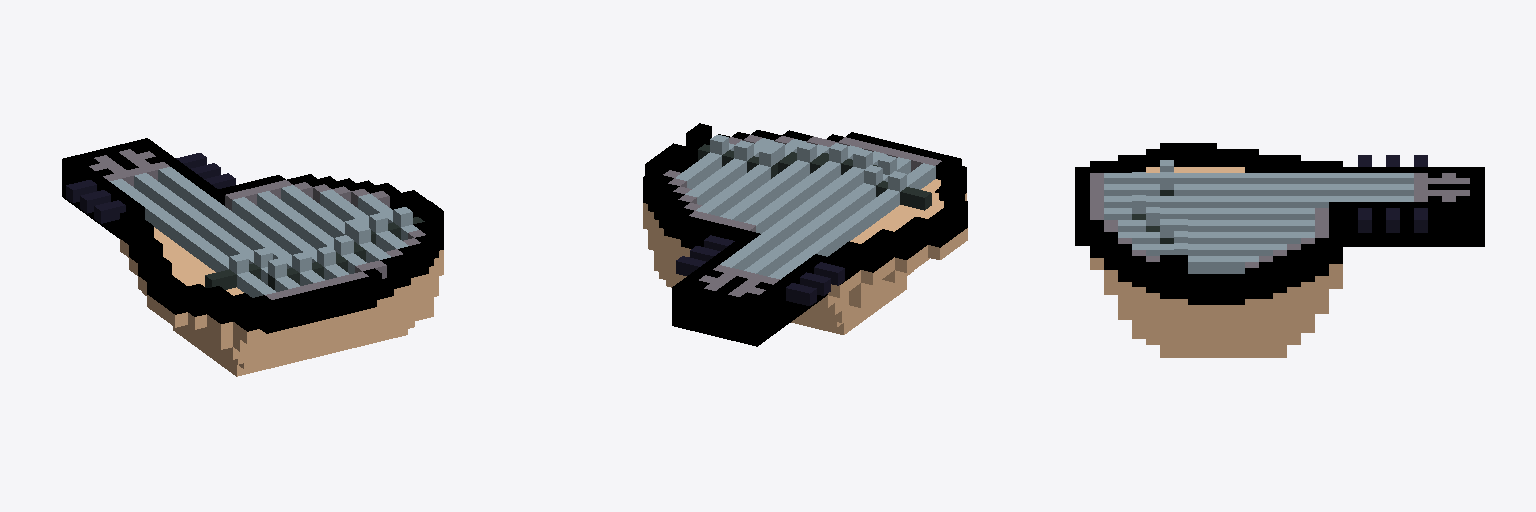
3 renders of one model, left to right at view 1: azimuth 30°, elevation 25°; view 2: azimuth 150°, elevation 25°; view 3: azimuth 270°, elevation 25°, orthographic.
Visible parts, largest first — view 1: object 1; view 2: object 1; view 3: object 1.
Boxes of the visible parts, <box> form: object 1: <box>62,138,443,376</box>; object 1: <box>643,123,967,346</box>; object 1: <box>1075,143,1484,357</box>.
Bounding box in the file's own units: 2.3 × 0.9 × 2.9.
1 materials, 1 textured.